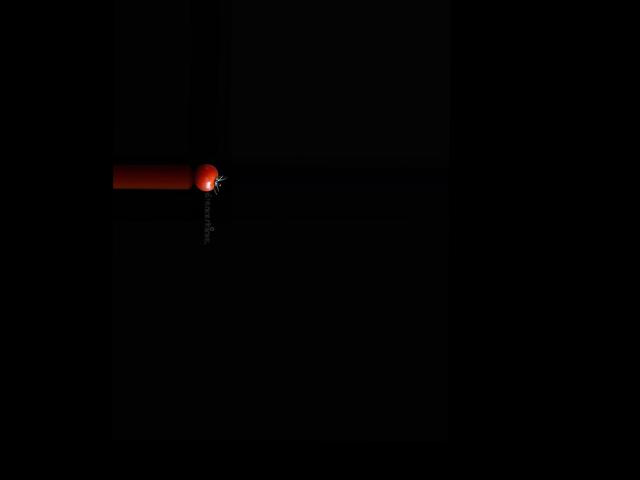tomato: (194, 164, 218, 191)
